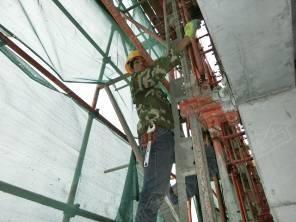helmet: (121, 50, 150, 72)
